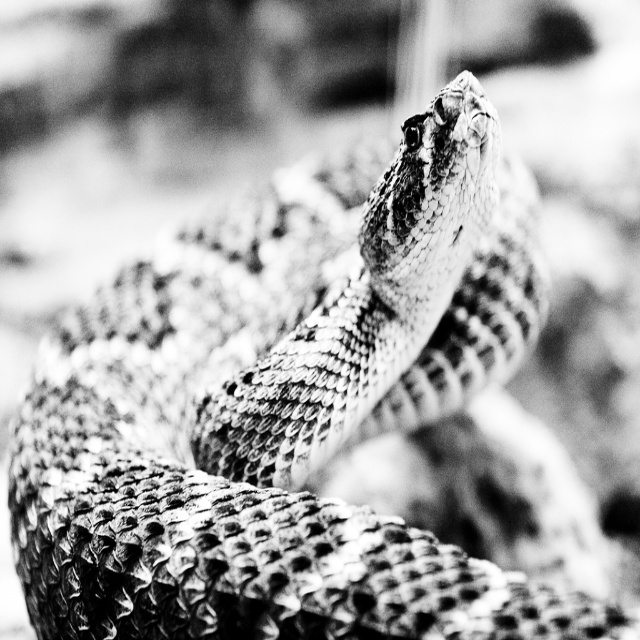Snake: (9, 65, 640, 639)
